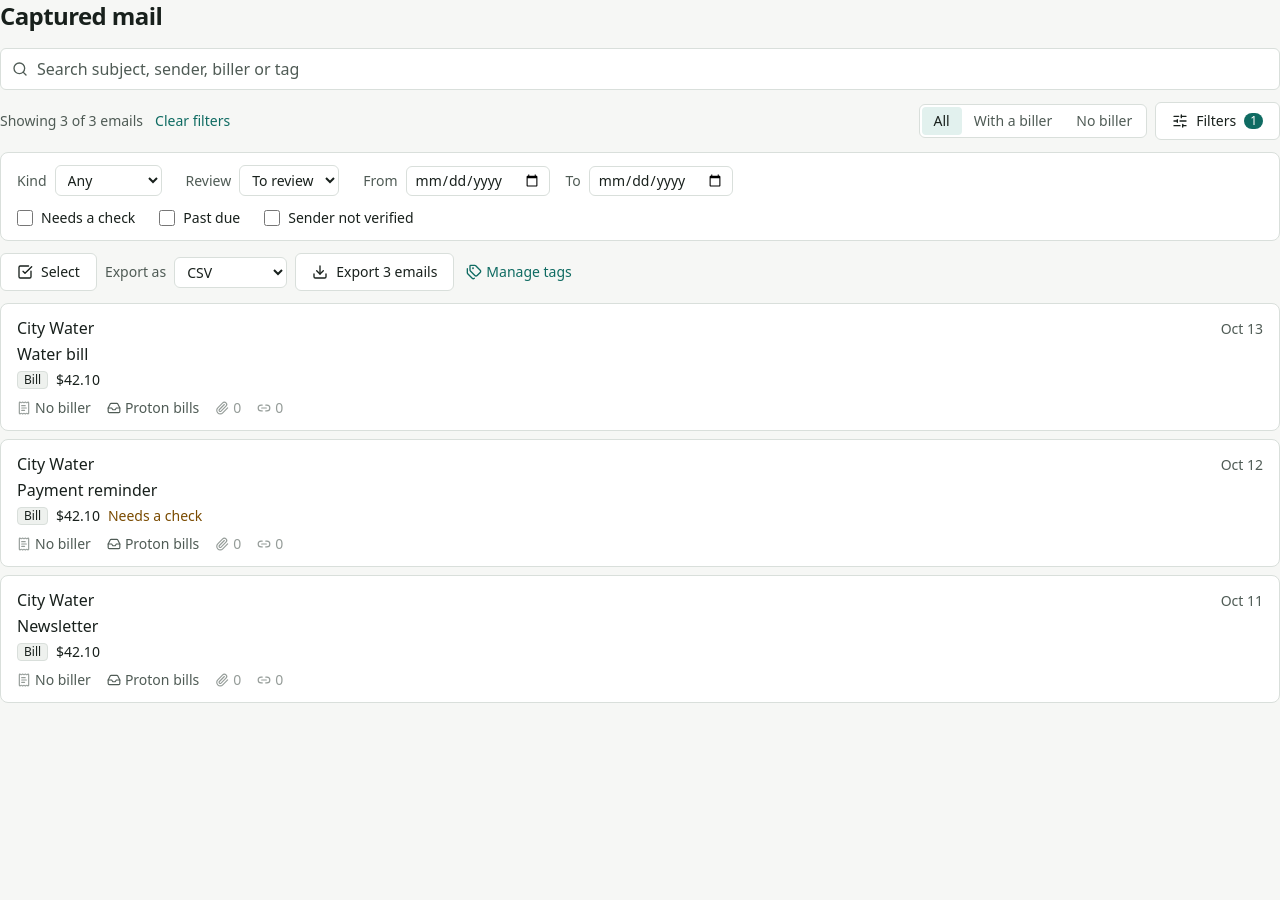
Test: review on the list › says so when everything has been reviewed
Expected: the text "Water bill" is shown, [17, 343, 88, 365]
What coordinates should you click on to do the following:
click the button "Select"
I would click on:
 (48, 272)
Its box is [0, 253, 97, 291].
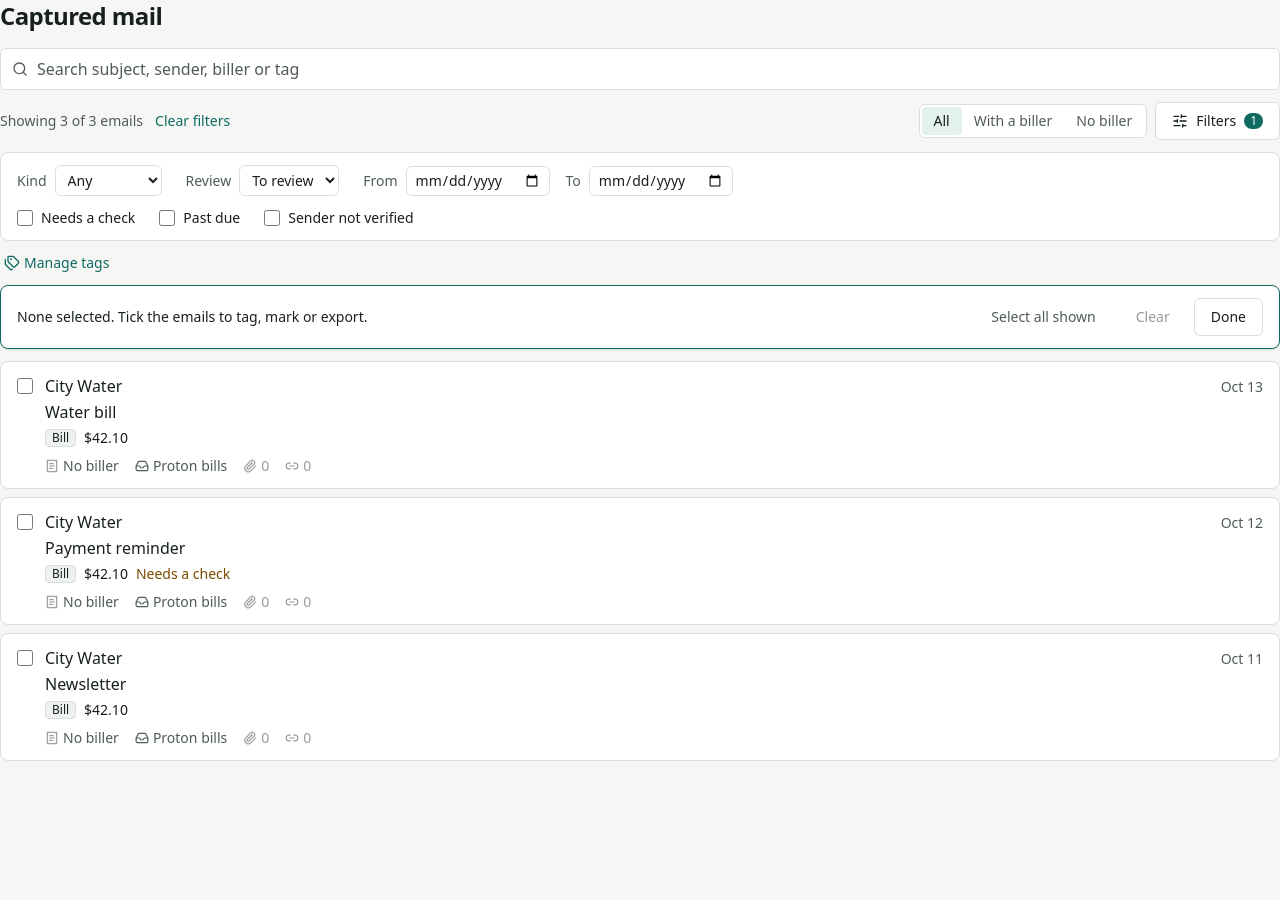
What coordinates should you click on to do the following:
click the button "Select all shown"
I would click on:
 (1044, 317)
Its box is [975, 298, 1112, 336].
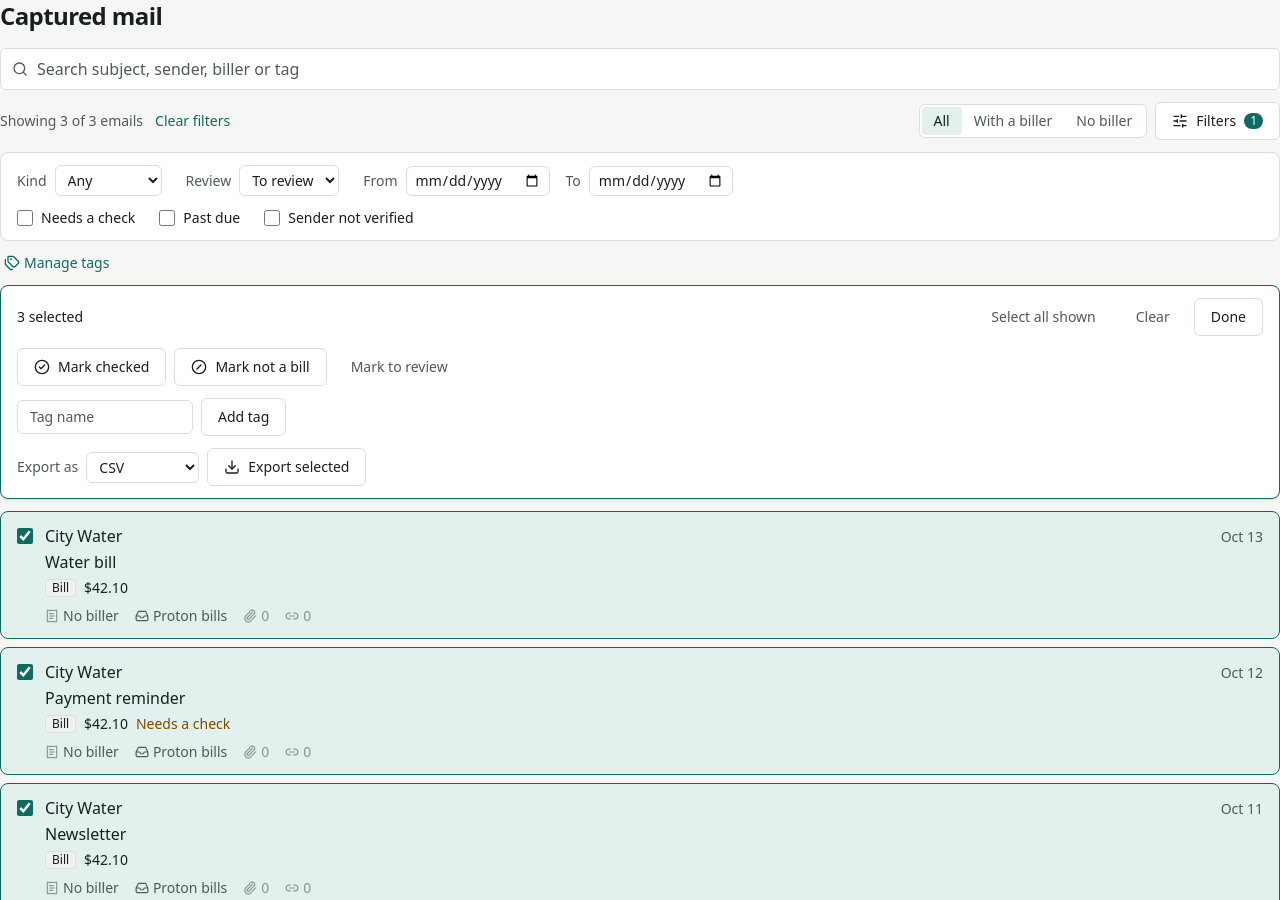
What coordinates should you click on to do the following:
click the button "Mark checked"
I would click on:
 (92, 367)
Its box is [17, 348, 166, 386].
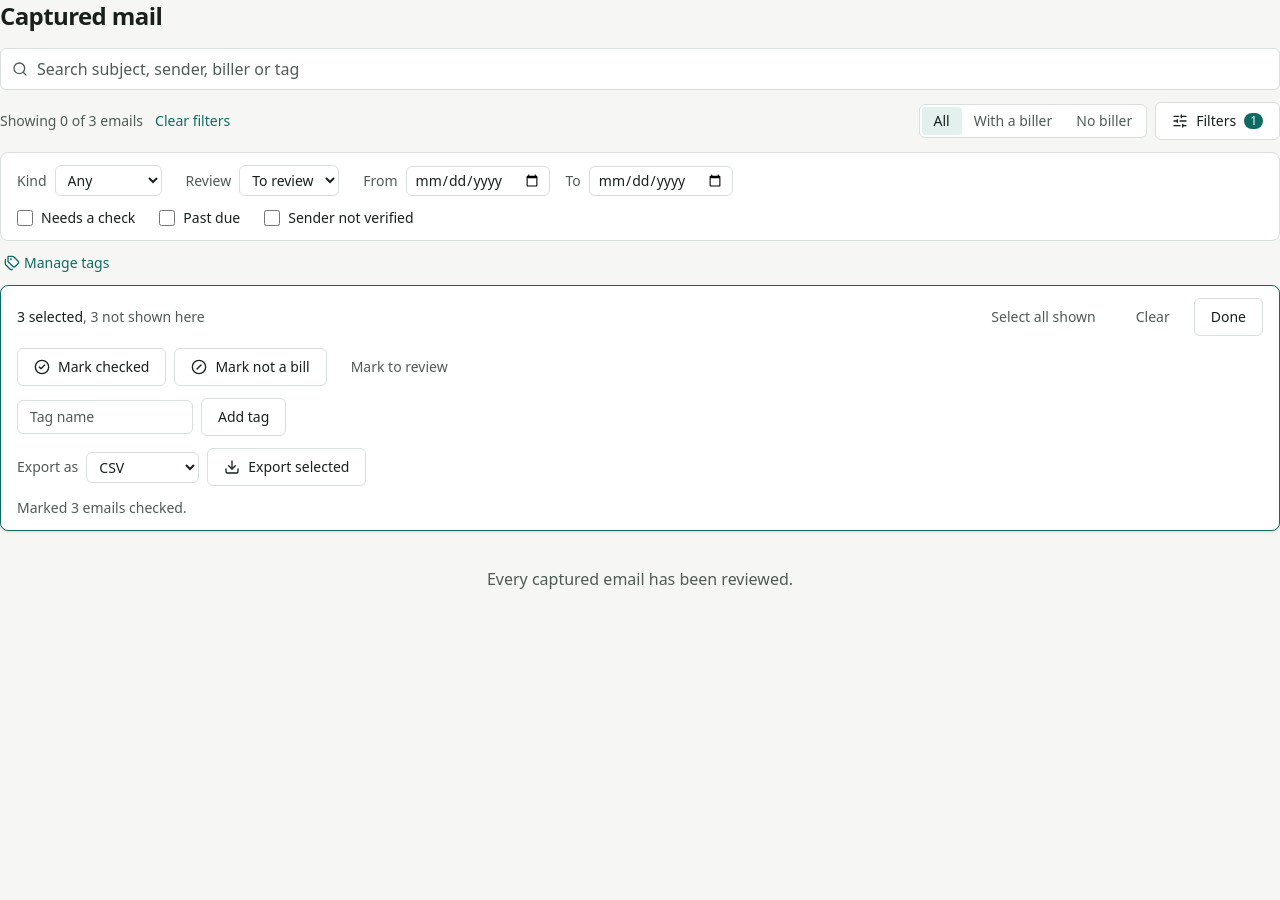
Now the text "Every captured email has been reviewed." is shown, box [487, 568, 793, 590]
